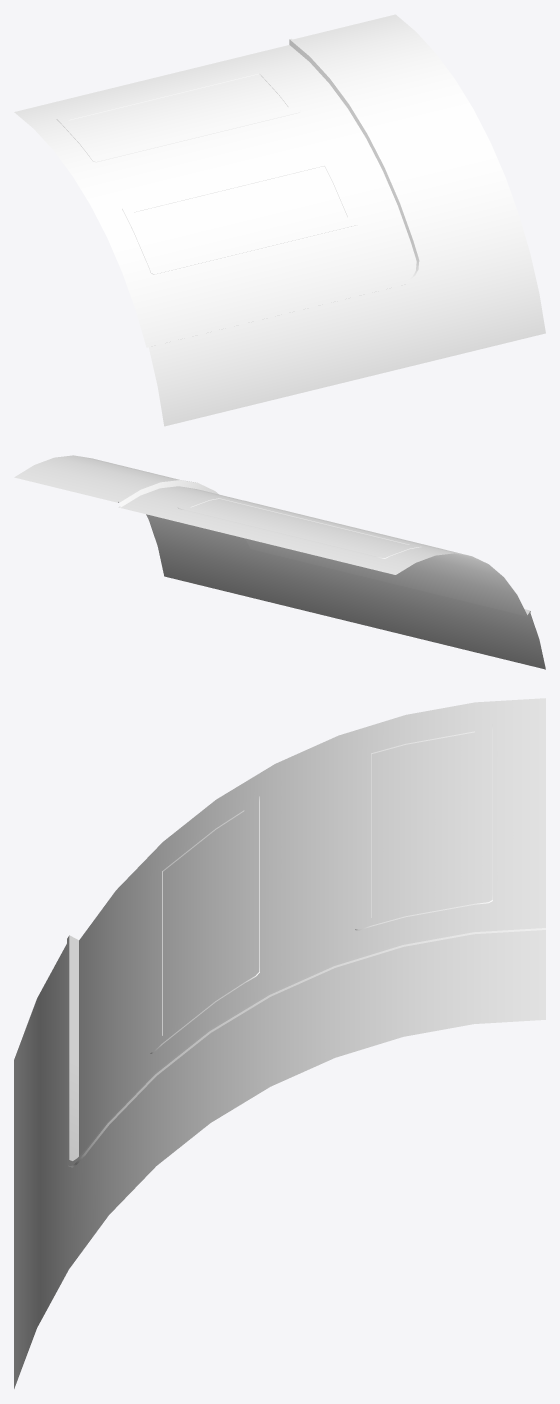
Rendered from grd_Ex_e_se_0.dae.
The picture shows the model from 3 angles, top to bottom: view 1: azimuth 30°, elevation 25°; view 2: azimuth 150°, elevation 25°; view 3: azimuth 270°, elevation 25°; orthographic projection. The views are drawn at different scales.
Visible parts, largest first — view 1: grass_0_0, road3_2_0, renga3_1_0; view 2: grass_0_0, road3_2_0, renga3_1_0; view 3: grass_0_0, road3_2_0, renga3_1_0.
Boxes of the visible parts, x1,y1,x2,y2 form: grass_0_0: [69, 14, 545, 426]; road3_2_0: [14, 45, 416, 347]; renga3_1_0: [56, 38, 421, 346]; grass_0_0: [14, 455, 545, 669]; road3_2_0: [118, 486, 527, 616]; renga3_1_0: [118, 479, 530, 614]; grass_0_0: [14, 732, 545, 1388]; road3_2_0: [79, 698, 545, 1155]; renga3_1_0: [67, 722, 545, 1167].
Bounding box in the file's own units: 704 × 370 × 480.
Materials: 3 (1 with a texture image).
